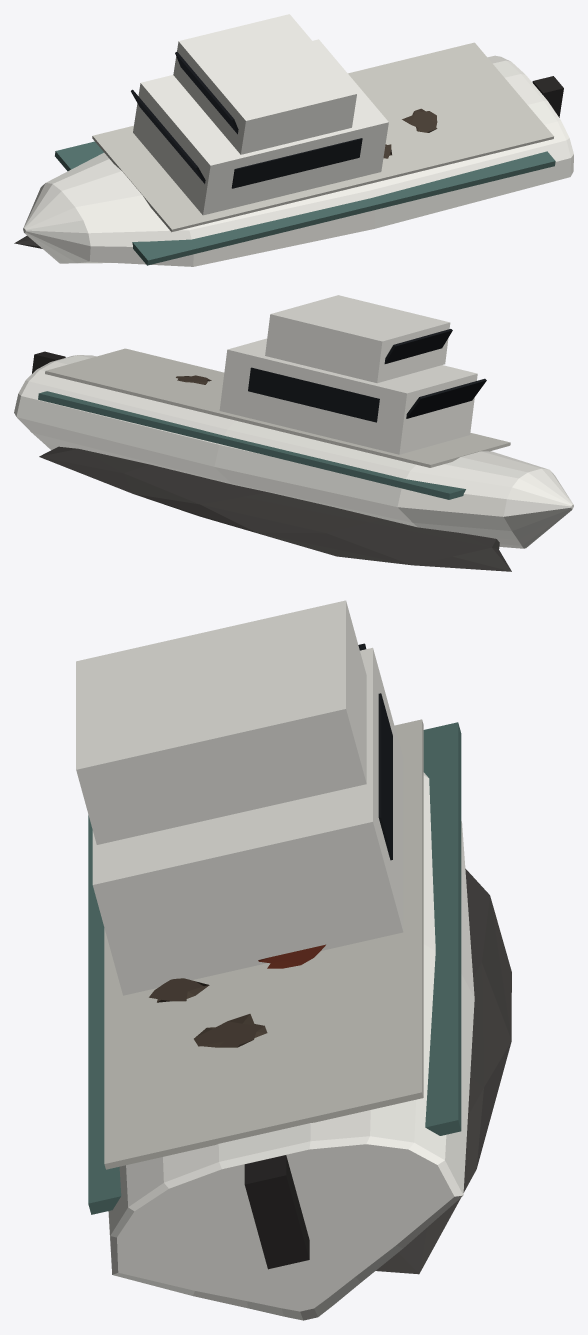
File: marina_cruiser.glb
The picture shows the model from 3 angles, top to bottom: view 1: azimuth 30°, elevation 25°; view 2: azimuth 150°, elevation 25°; view 3: azimuth 270°, elevation 25°; orthographic projection. The views are drawn at different scales.
Parts seen in each view (by area): view 1: marina_cruiser; view 2: marina_cruiser; view 3: marina_cruiser.
Boxes of the visible parts, box(x1,y1,x2,y2) form: marina_cruiser: box(14, 14, 573, 266); marina_cruiser: box(14, 295, 573, 571); marina_cruiser: box(76, 600, 511, 1320).
Size of the model in its own units: 11.47 by 4.11 by 4.07.
